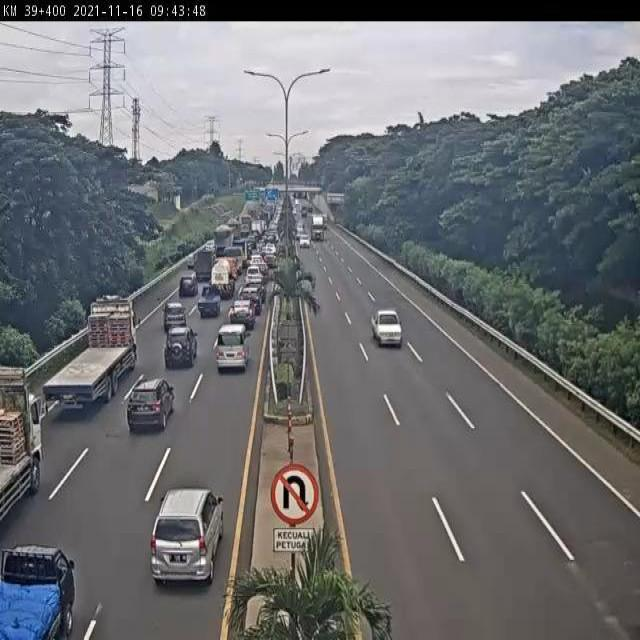car: (0, 544, 76, 640), (151, 488, 223, 587), (127, 378, 175, 433), (214, 327, 249, 377), (163, 328, 195, 371), (369, 311, 403, 348), (163, 302, 191, 338), (197, 285, 221, 319), (230, 300, 254, 333), (180, 273, 202, 299), (240, 287, 262, 313), (248, 277, 268, 299), (246, 265, 264, 284), (185, 250, 201, 266), (248, 254, 264, 266), (300, 237, 308, 248)
small truck: (187, 248, 214, 287), (225, 246, 244, 274)
truck-l-: (40, 300, 136, 408), (0, 384, 42, 524), (309, 212, 325, 241)
truck-m-: (211, 260, 234, 300), (210, 226, 232, 262)
